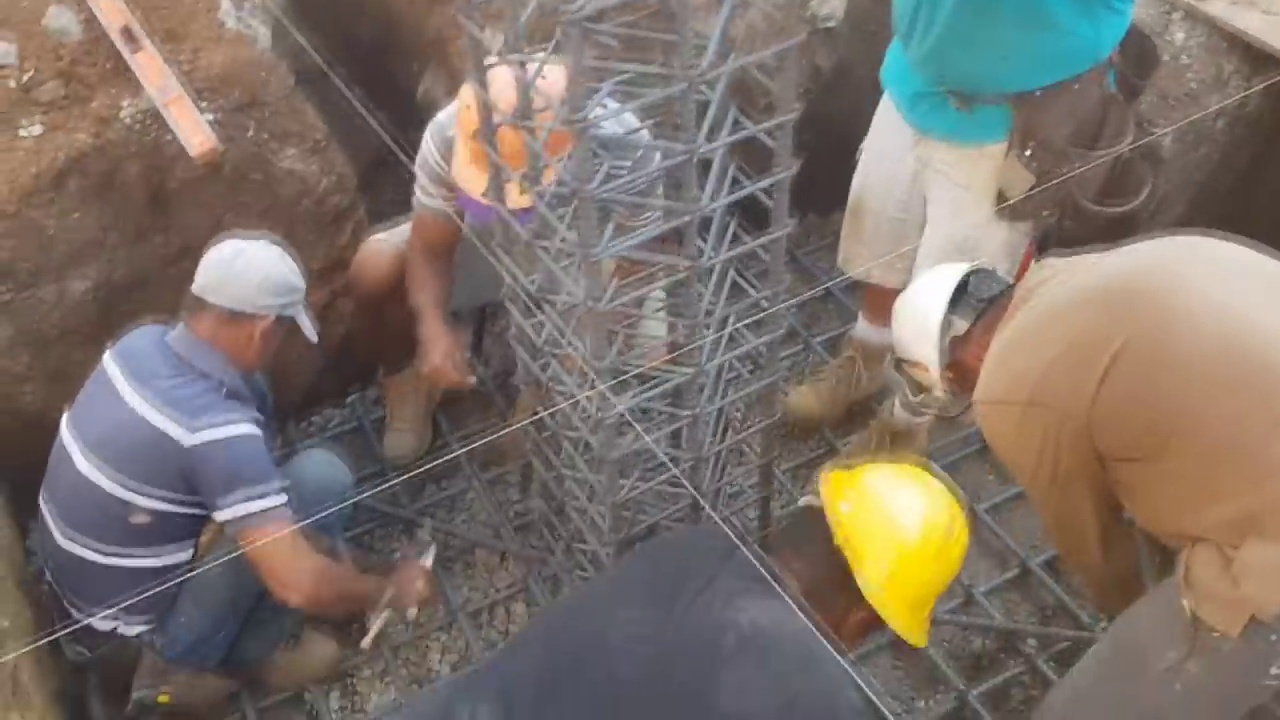helmet: (813, 464, 971, 649), (450, 51, 579, 214), (888, 256, 1006, 406)
helmet-off: (180, 228, 320, 382)
helmet-on: (758, 460, 975, 654), (889, 257, 1019, 409)
person: (31, 225, 440, 703), (888, 231, 1280, 720), (377, 459, 973, 720), (787, 5, 1147, 429), (354, 40, 665, 480)
